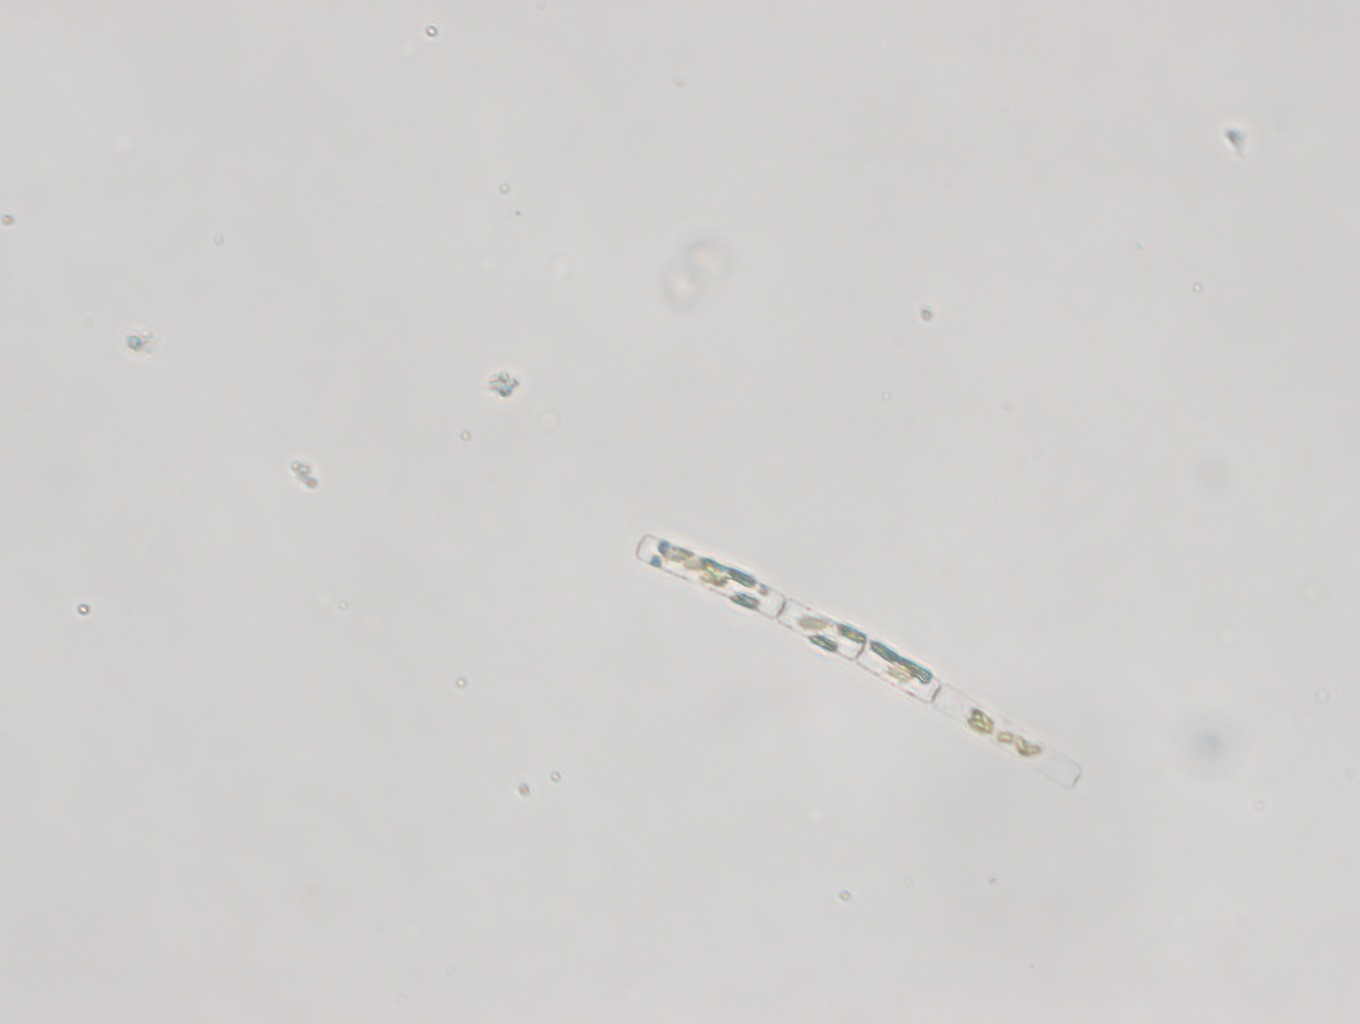guinardia flaccida: (624, 521, 1096, 794)
